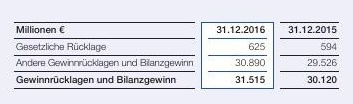table: (0, 0, 353, 104)
